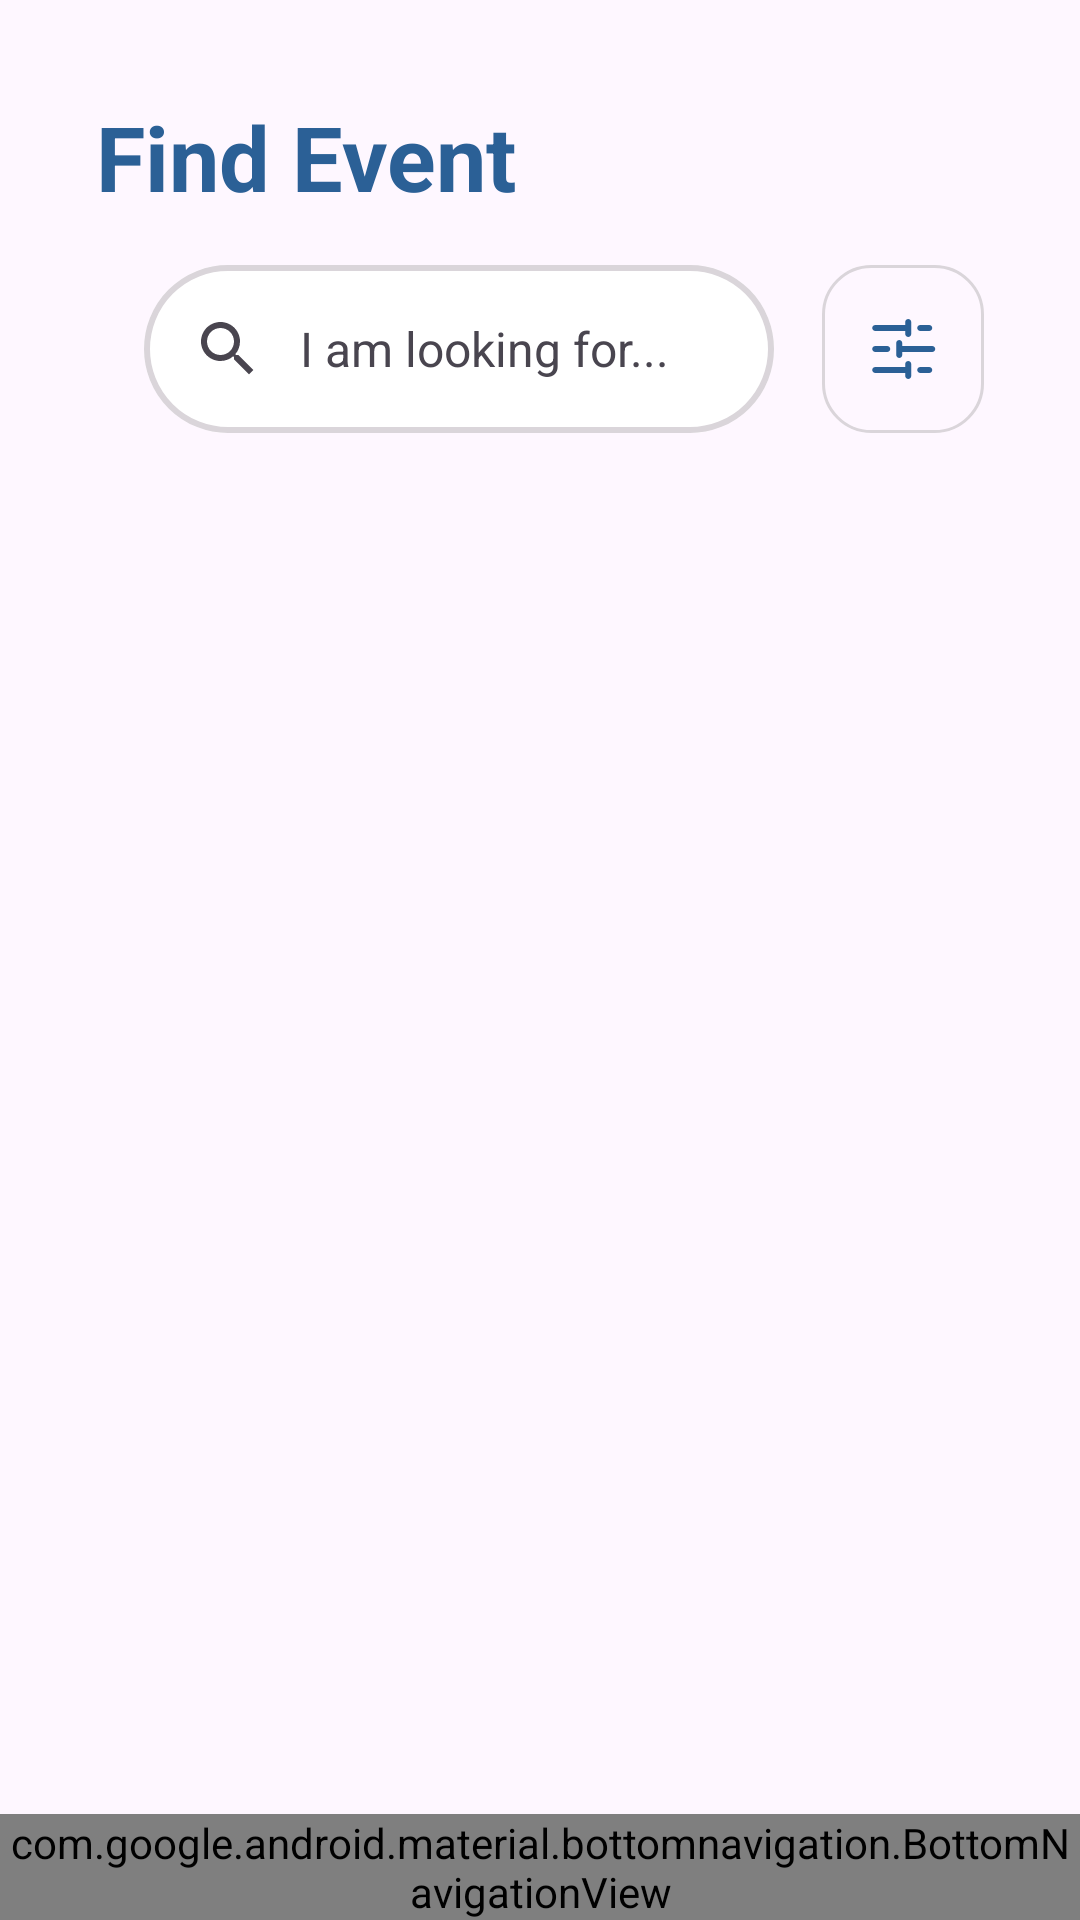

Point at icon controls on the screen. Image size 1080×1920, points as point (x, y).
filter: point (903, 349)
